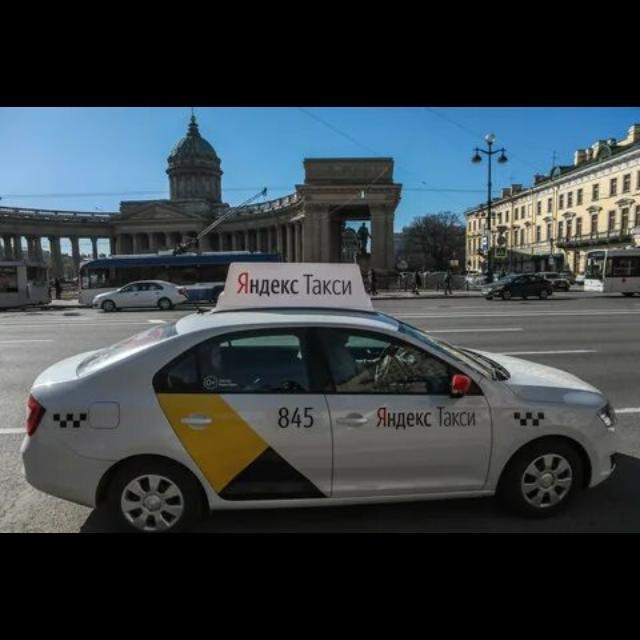taxi: (20, 262, 620, 532)
